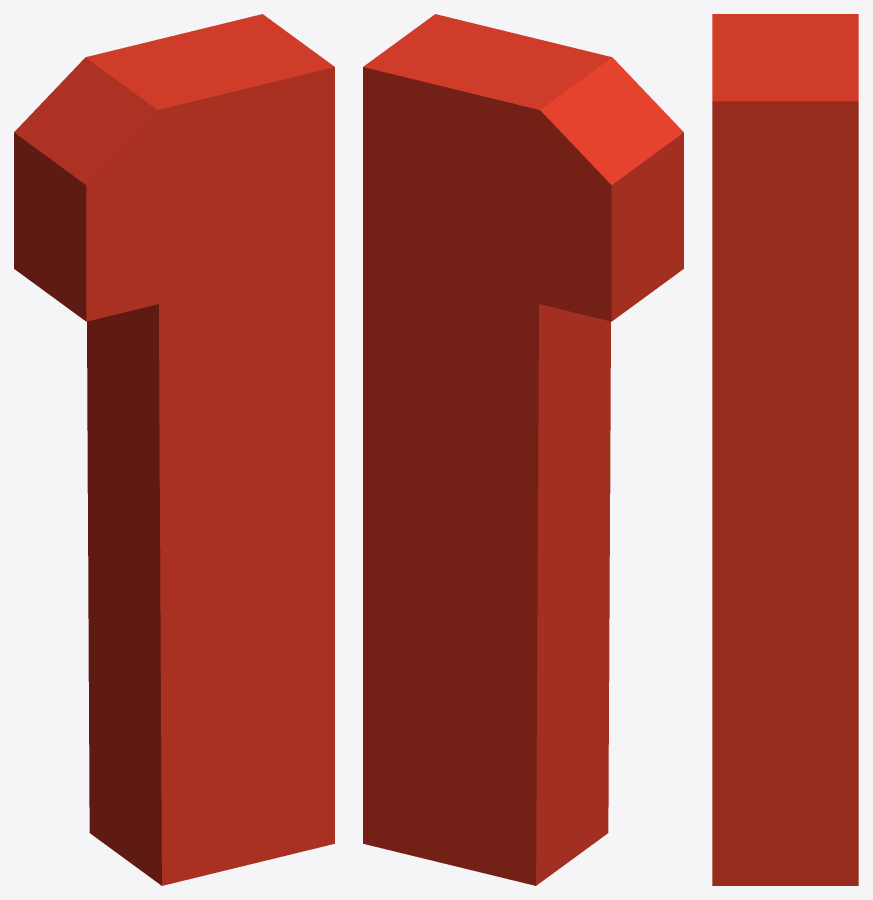
File: Icon_Number_1.fbx
3 views of the same model, side by side, from view 1: azimuth 30°, elevation 25°; view 2: azimuth 150°, elevation 25°; view 3: azimuth 270°, elevation 25° (orthographic).
Visible parts, largest first — view 1: Icon_Number_1; view 2: Icon_Number_1; view 3: Icon_Number_1.
Part boxes in pixels (left/top/right/bottom): Icon_Number_1: left=14, top=14, right=334, bottom=885; Icon_Number_1: left=363, top=14, right=683, bottom=885; Icon_Number_1: left=712, top=14, right=858, bottom=885.
Bounding box in the file's own units: 23.95 × 71.49 × 12.06.
